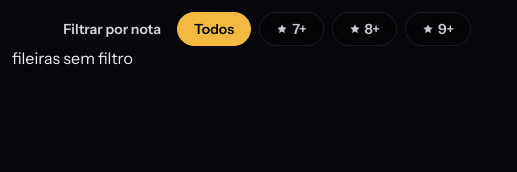
Scenario: HomeGenreRows › se nenhuma fileira tem filmes, mostra a mensagem com a nota escolhida
Click the button "9+": (438,29) [405, 12, 471, 46]
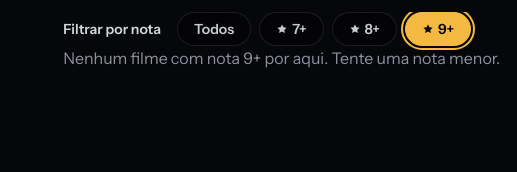
Check: the text "Nenhum filme com nota 9+ por aqui. Tente uma nota menor." is shown, box [63, 48, 500, 68]
